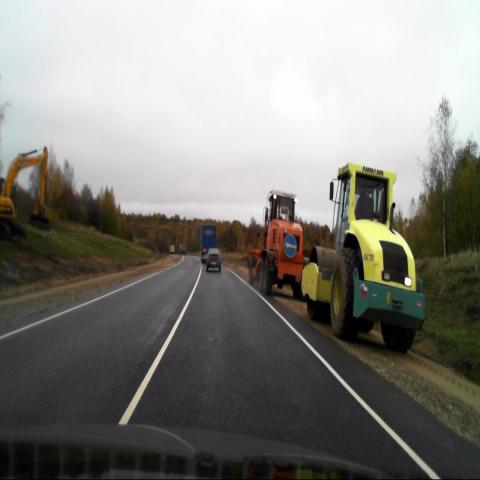4_1_2_2: (283, 234, 297, 258)
